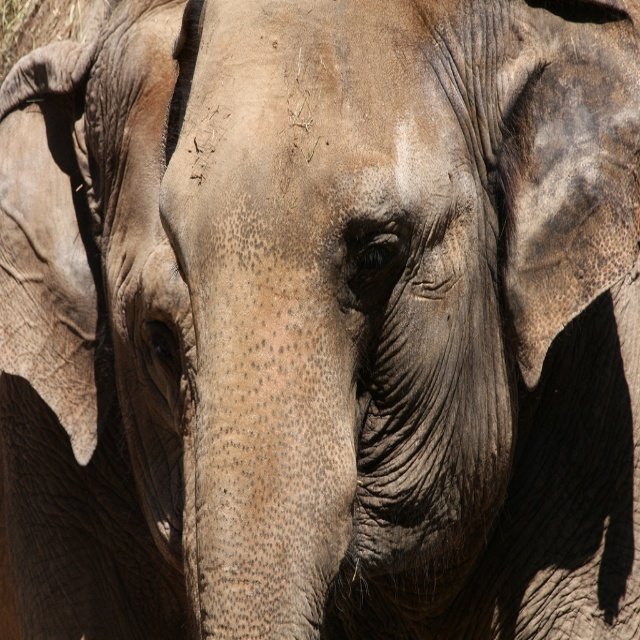Elephant: (0, 6, 581, 640)
